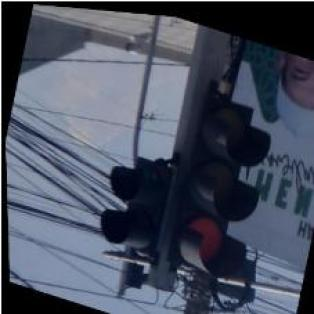Semaforo Rojo: (160, 84, 280, 284)
